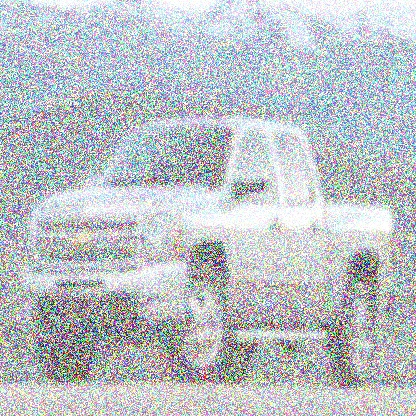Vehicle: (19, 111, 399, 377)
